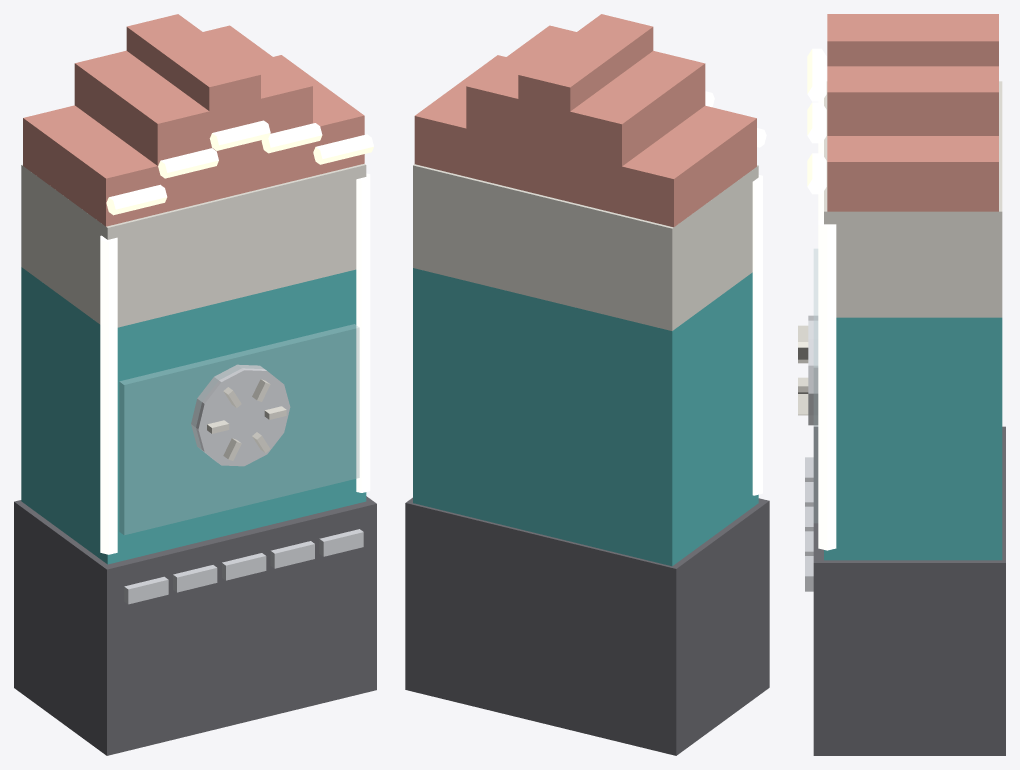
The model's file is retro-diner-and-roadside-motel-jukebox-20a393ac__37329.glb.
The picture shows the model from 3 angles, left to right: view 1: azimuth 30°, elevation 25°; view 2: azimuth 150°, elevation 25°; view 3: azimuth 270°, elevation 25°; orthographic projection. The views are drawn at different scales.
Parts seen in each view (by area): view 1: jukebox-turquoise, jukebox-asphalt, jukebox-coral, jukebox-cream, jukebox-glass, jukebox-neon, selector/chrome, jukebox-chrome, selector/cream; view 2: jukebox-turquoise, jukebox-asphalt, jukebox-coral, jukebox-cream, jukebox-neon; view 3: jukebox-turquoise, jukebox-asphalt, jukebox-coral, jukebox-cream, jukebox-neon, selector/chrome, jukebox-chrome, jukebox-glass, selector/cream.
Part boxes in pixels (x1,y1,x2,y2): jukebox-turquoise: (21, 267, 366, 564); jukebox-asphalt: (14, 496, 376, 755); jukebox-coral: (23, 14, 364, 226); jukebox-cream: (21, 163, 366, 327); jukebox-glass: (119, 324, 359, 534); jukebox-neon: (100, 120, 373, 554); selector/chrome: (191, 364, 290, 466); jukebox-chrome: (124, 529, 363, 604); selector/cream: (207, 379, 286, 460); jukebox-turquoise: (413, 268, 758, 566); jukebox-asphalt: (405, 497, 769, 755); jukebox-coral: (414, 14, 756, 227); jukebox-cream: (413, 164, 758, 330); jukebox-neon: (705, 91, 766, 495); jukebox-turquoise: (824, 317, 1002, 560); jukebox-asphalt: (813, 426, 1005, 755); jukebox-coral: (827, 14, 998, 211); jukebox-cream: (824, 81, 1002, 317); jukebox-neon: (807, 48, 836, 550); selector/chrome: (808, 315, 818, 425); jukebox-chrome: (805, 457, 813, 591); jukebox-glass: (814, 249, 817, 522); selector/cream: (798, 325, 808, 415).
Size of the model in its own units: 0.9401 by 2.12 by 0.605.
